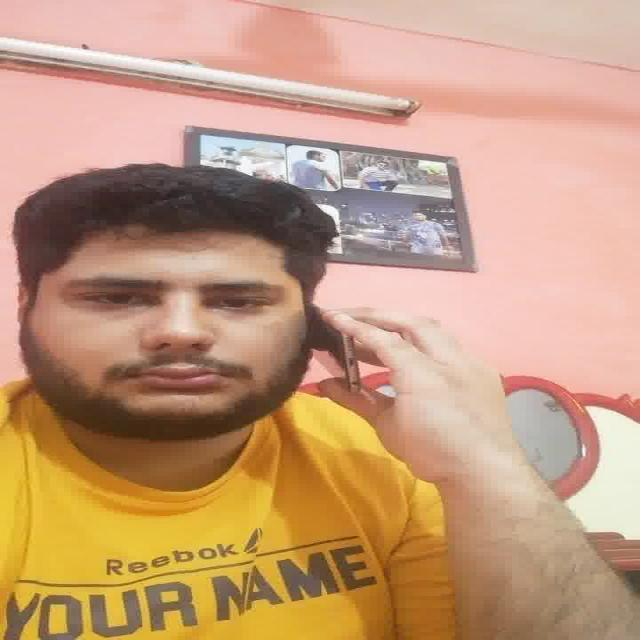Phone: (312, 296, 363, 398)
